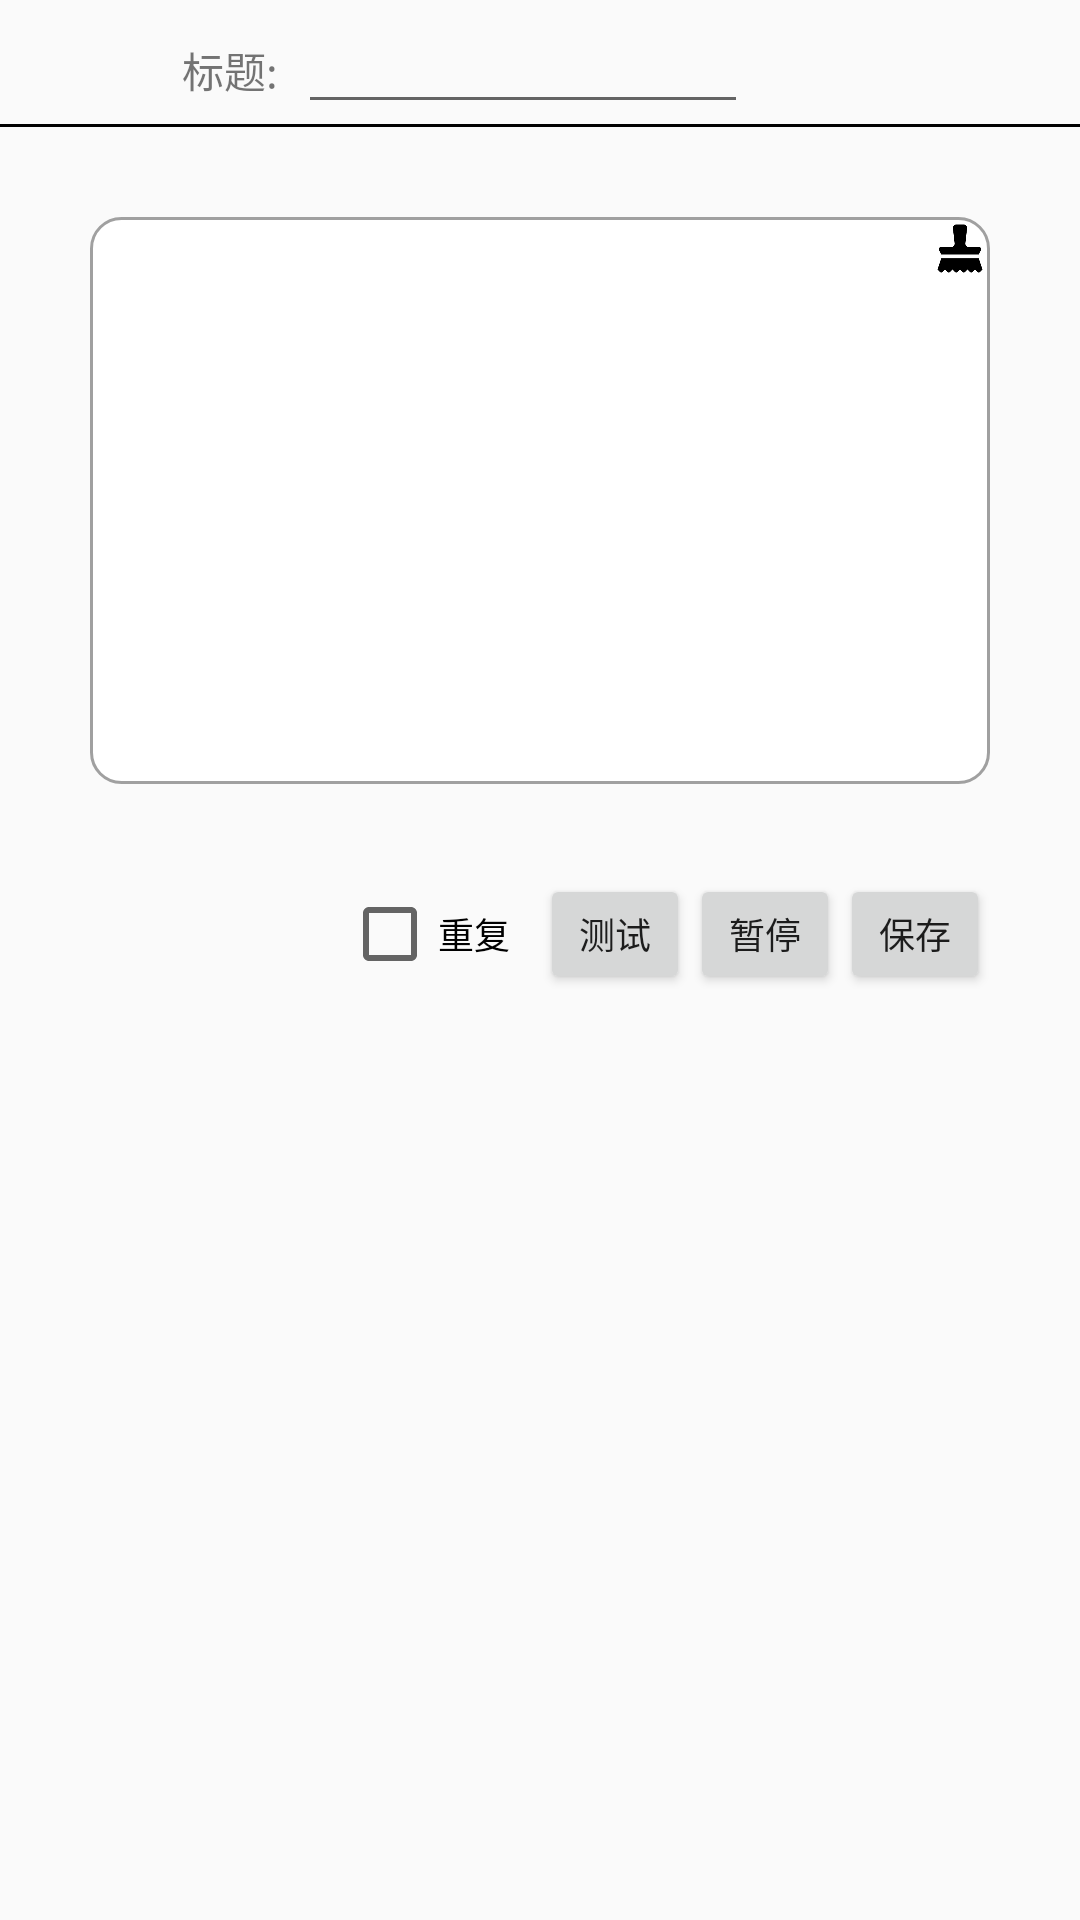

Locate icon controls on the screen. Image size 1080x1920, boxes as (x1, y1, x2, y2).
format brush: (937, 224, 983, 273)
